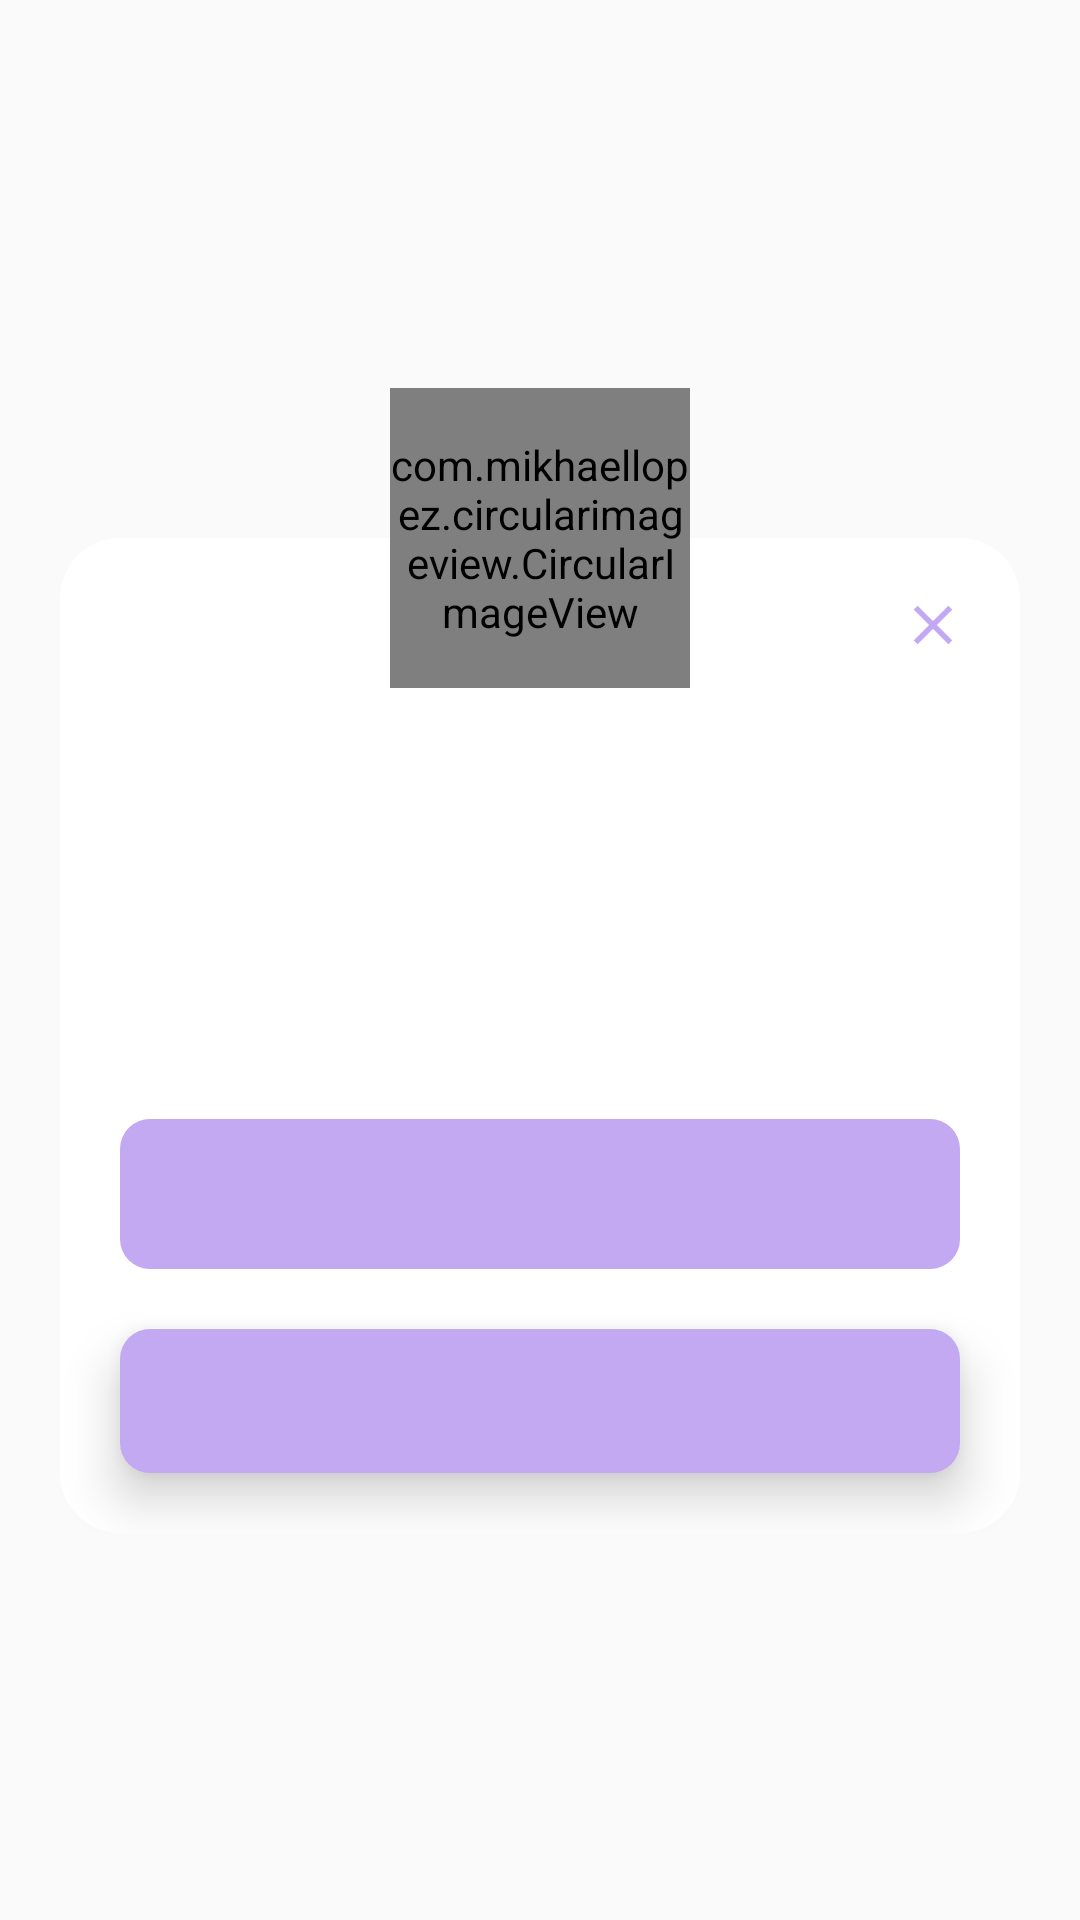

Screen size 1080×1920. Icon name, then its center in pixels as point (x, y):
close: point (933, 625)
